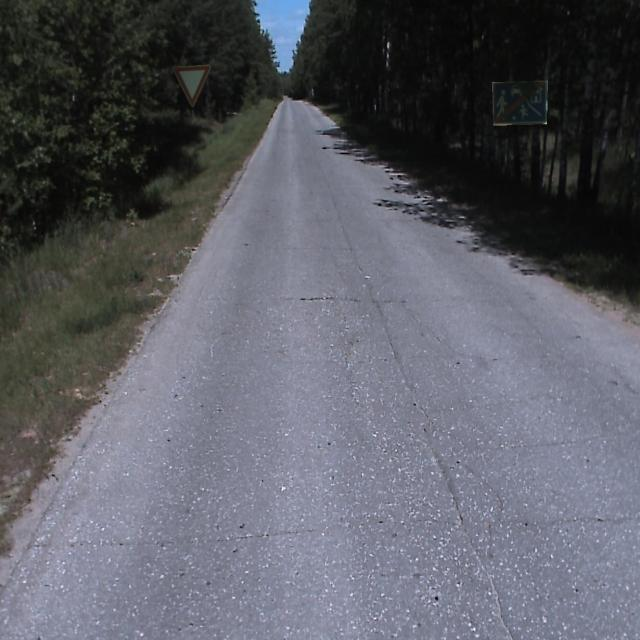road: (0, 95, 639, 639)
